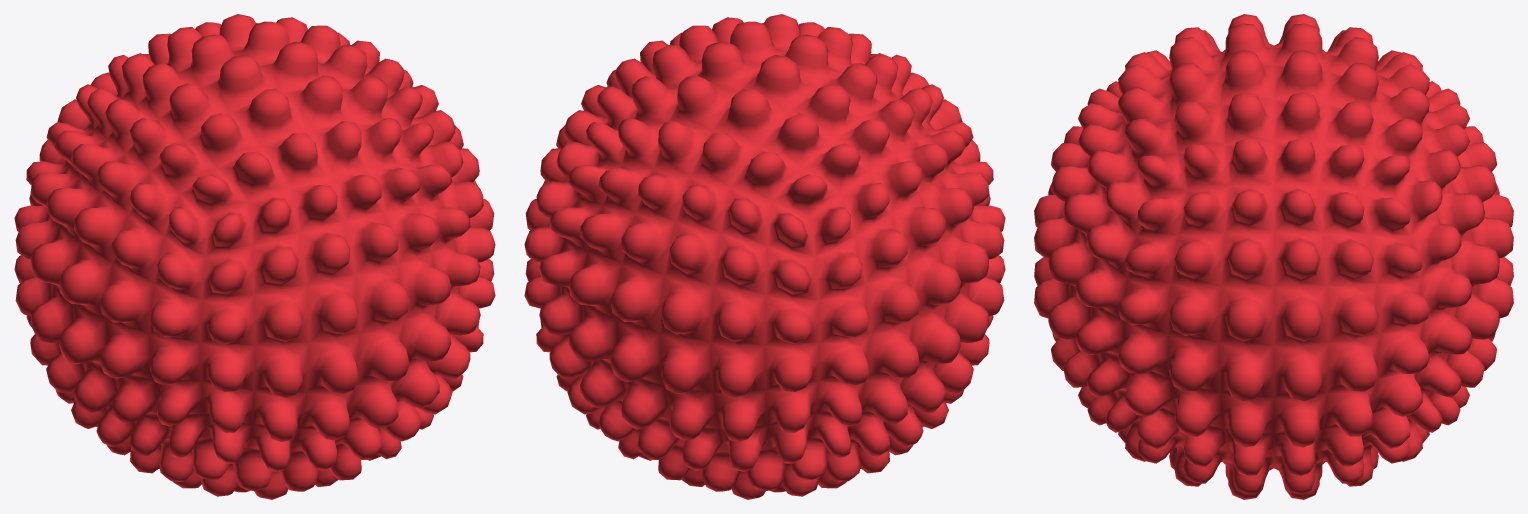
The model's file is enemy.glb.
3 renders of one model, left to right at view 1: azimuth 30°, elevation 25°; view 2: azimuth 150°, elevation 25°; view 3: azimuth 270°, elevation 25°, orthographic.
Visible parts, largest first — view 1: enemy; view 2: enemy; view 3: enemy.
Part boxes in pixels (x1,y1,x2,y2): enemy: (14,14,495,499); enemy: (524,14,1005,499); enemy: (1034,14,1513,499).
Bounding box in the file's own units: 3.94 × 3.94 × 3.94.
